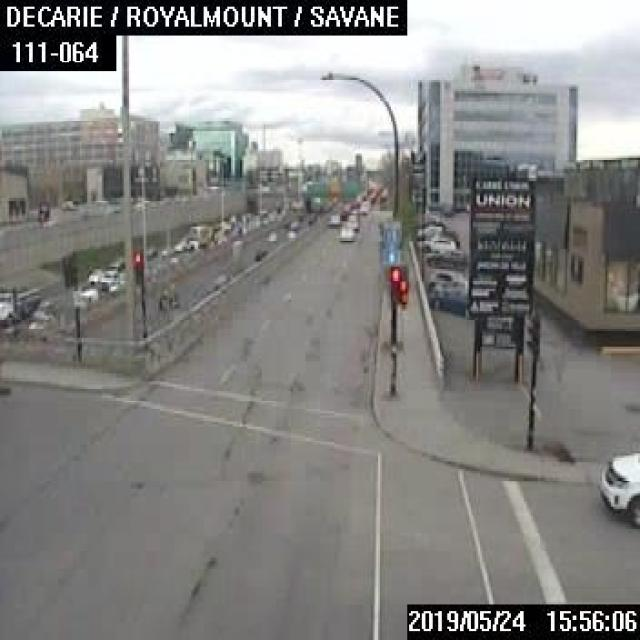vehicle: (596, 447, 638, 529), (0, 286, 40, 324), (427, 282, 472, 314), (426, 268, 469, 290), (424, 248, 467, 268), (187, 220, 213, 247), (416, 235, 458, 251), (416, 223, 450, 239), (73, 285, 98, 303), (84, 265, 102, 283), (337, 227, 353, 240), (344, 214, 357, 226), (328, 213, 341, 225), (145, 245, 157, 256)
